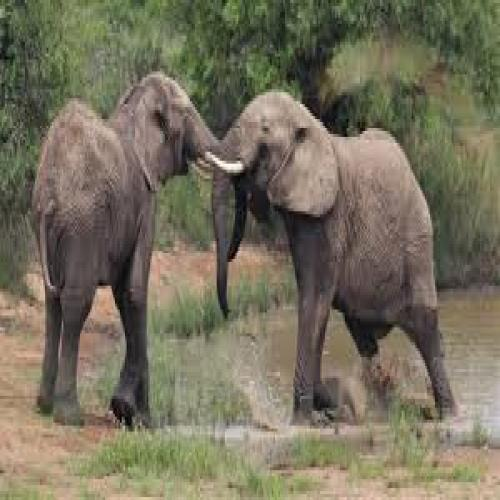asian_elephant-endangered: (210, 90, 459, 418), (31, 70, 233, 434)
